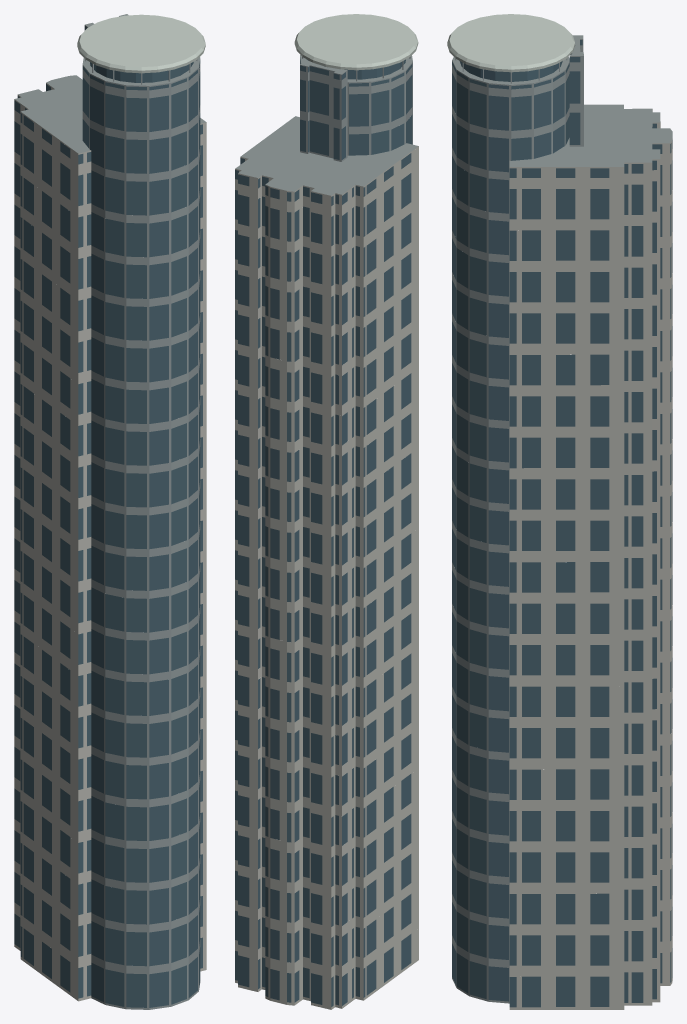
Rendered from moshe-aviv-tower-far.glb.
3 renders of one model, left to right at view 1: azimuth 30°, elevation 25°; view 2: azimuth 150°, elevation 25°; view 3: azimuth 270°, elevation 25°, orthographic. The views are drawn at different scales.
Parts seen in each view (by area): view 1: moshe-aviv-tower-0-glass, moshe-aviv-tower-0-stone, moshe-aviv-tower-0-frame, moshe-aviv-tower-0-lamp, moshe-aviv-tower-0-roof; view 2: moshe-aviv-tower-0-stone, moshe-aviv-tower-0-glass, moshe-aviv-tower-0-roof, moshe-aviv-tower-0-lamp, moshe-aviv-tower-0-frame; view 3: moshe-aviv-tower-0-glass, moshe-aviv-tower-0-stone, moshe-aviv-tower-0-frame, moshe-aviv-tower-0-roof, moshe-aviv-tower-0-lamp.
Part boxes in pixels (<box>): moshe-aviv-tower-0-glass: <box>14,26,202,1007</box>; moshe-aviv-tower-0-stone: <box>14,83,206,1001</box>; moshe-aviv-tower-0-frame: <box>82,25,200,1009</box>; moshe-aviv-tower-0-lamp: <box>77,14,205,73</box>; moshe-aviv-tower-0-roof: <box>15,14,206,153</box>; moshe-aviv-tower-0-stone: <box>235,146,418,1009</box>; moshe-aviv-tower-0-glass: <box>235,58,412,1006</box>; moshe-aviv-tower-0-roof: <box>235,55,418,195</box>; moshe-aviv-tower-0-lamp: <box>294,14,418,70</box>; moshe-aviv-tower-0-frame: <box>300,57,412,161</box>; moshe-aviv-tower-0-glass: <box>452,40,672,1007</box>; moshe-aviv-tower-0-stone: <box>509,109,672,1009</box>; moshe-aviv-tower-0-frame: <box>452,39,583,1003</box>; moshe-aviv-tower-0-roof: <box>452,35,672,166</box>; moshe-aviv-tower-0-lamp: <box>447,14,574,72</box>.
Size of the model in its own units: 33.49 by 235 by 51.14.
